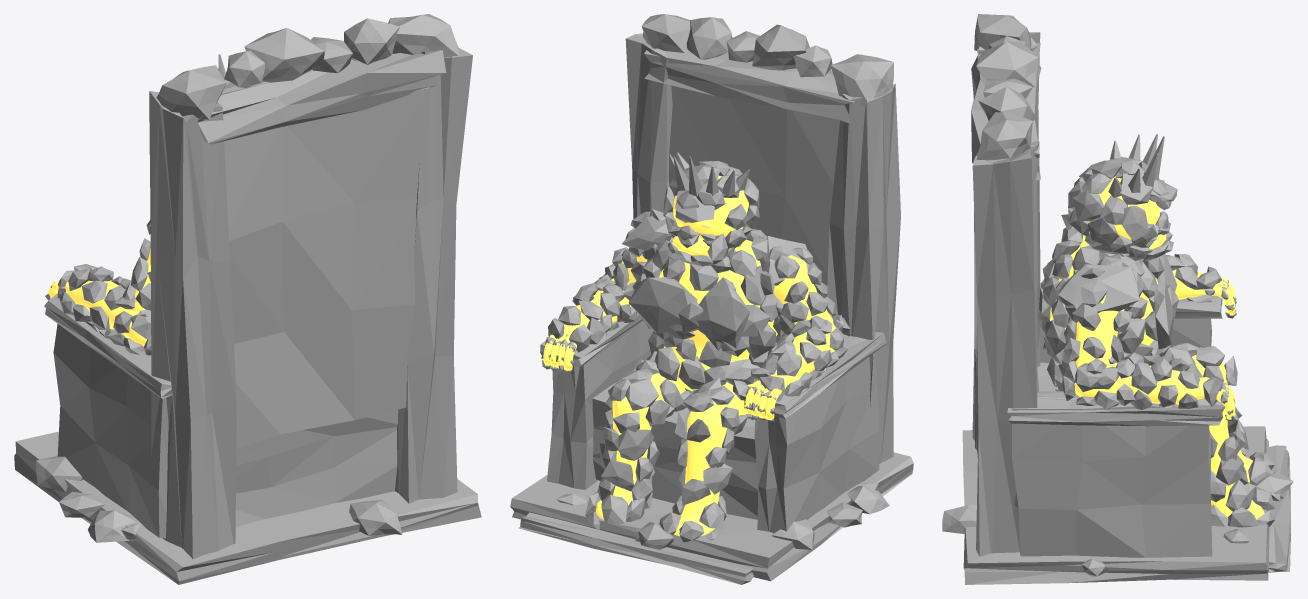
The model's file is villain_basalt.glb.
The picture shows the model from 3 angles, left to right: view 1: azimuth 30°, elevation 25°; view 2: azimuth 150°, elevation 25°; view 3: azimuth 270°, elevation 25°; orthographic projection. The views are drawn at different scales.
Parts seen in each view (by area): view 1: throne, forearm_L, upperarm_L, lava_forearm_L; view 2: throne, torso, legs, head_geo, lava_legs, forearm_L, upperarm_L, forearm_R, lava_torso, upperarm_R, jaw_geo, lava_head_geo (+2 smaller); view 3: throne, torso, head_geo, legs, forearm_R, upperarm_R, lava_legs, lava_forearm_R, forearm_L, lava_upperarm_R, jaw_geo, lava_head_geo (+1 smaller).
Part boxes in pixels (bbox=[...]): throne: bbox=[14, 14, 481, 584]; forearm_L: bbox=[57, 264, 151, 355]; upperarm_L: bbox=[123, 220, 150, 323]; lava_forearm_L: bbox=[65, 280, 147, 346]; throne: bbox=[510, 14, 913, 584]; torso: bbox=[622, 216, 808, 394]; legs: bbox=[585, 351, 753, 542]; head_geo: bbox=[663, 152, 759, 249]; lava_legs: bbox=[596, 372, 752, 536]; forearm_L: bbox=[750, 314, 850, 401]; upperarm_L: bbox=[757, 246, 843, 337]; forearm_R: bbox=[548, 274, 637, 352]; lava_torso: bbox=[659, 239, 777, 391]; upperarm_R: bbox=[605, 209, 665, 300]; jaw_geo: bbox=[667, 226, 734, 266]; lava_head_geo: bbox=[673, 175, 748, 238]; throne: bbox=[942, 14, 1293, 584]; torso: bbox=[1038, 214, 1178, 391]; head_geo: bbox=[1068, 134, 1177, 256]; legs: bbox=[1169, 343, 1275, 527]; forearm_R: bbox=[1061, 352, 1223, 409]; upperarm_R: bbox=[1061, 268, 1133, 383]; lava_legs: bbox=[1192, 354, 1264, 519]; lava_forearm_R: bbox=[1074, 363, 1209, 404]; forearm_L: bbox=[1166, 254, 1221, 301]; lava_upperarm_R: bbox=[1075, 295, 1124, 367]; jaw_geo: bbox=[1126, 212, 1173, 260]; lava_head_geo: bbox=[1088, 176, 1160, 240].
Bounding box in the file's own units: 5.64 × 7.97 × 5.43.
